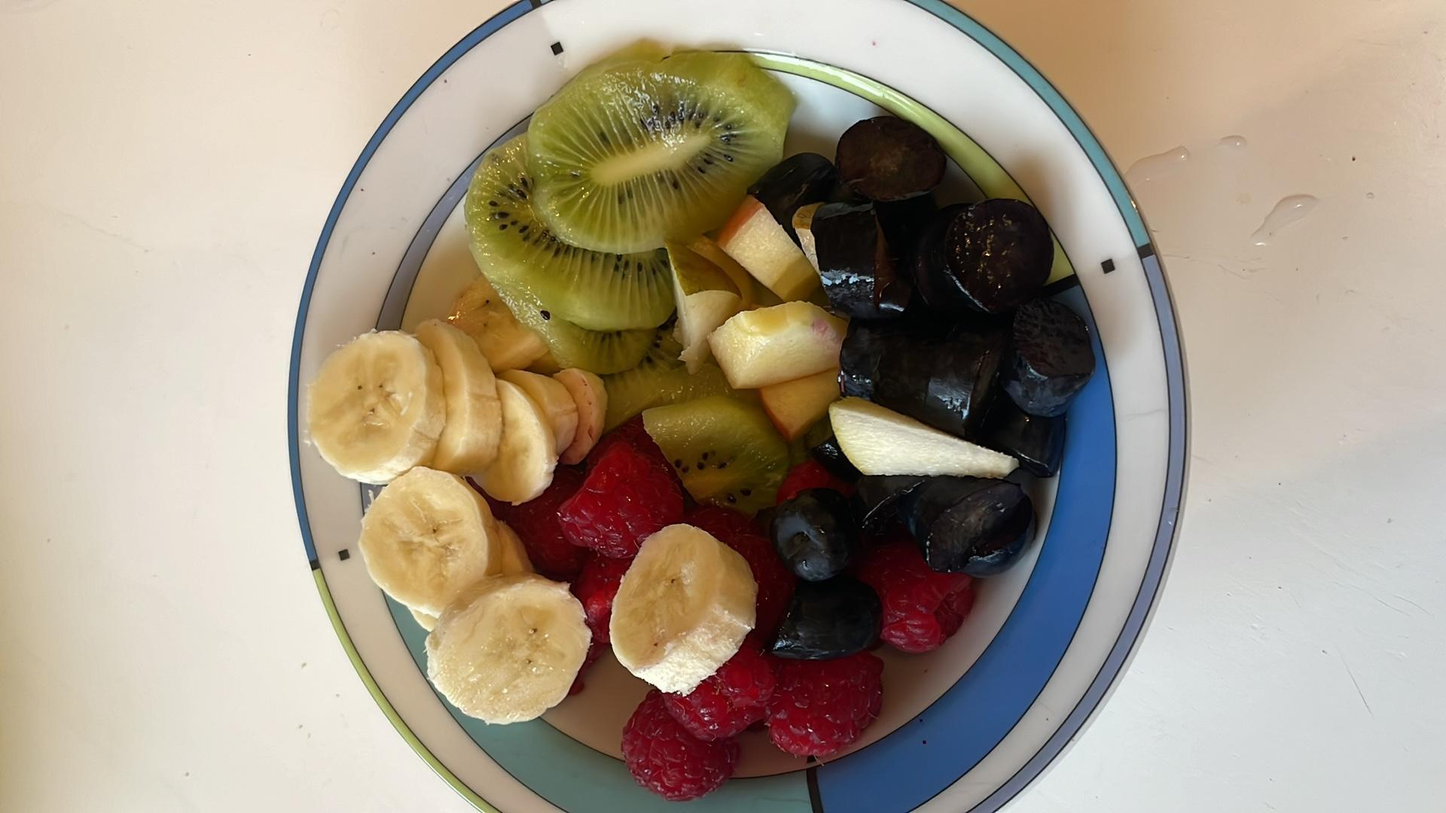apple: (831, 394, 1006, 479), (708, 303, 847, 387), (709, 190, 807, 296), (667, 240, 731, 384), (765, 370, 849, 423)
banana: (423, 576, 593, 726), (615, 528, 753, 691), (359, 470, 499, 616), (311, 333, 432, 475), (493, 373, 593, 492), (429, 326, 495, 471), (452, 270, 528, 361)
grape: (941, 197, 1047, 311), (832, 108, 945, 211), (934, 327, 1025, 438), (921, 484, 1033, 565), (1010, 298, 1074, 431), (818, 206, 888, 321), (782, 485, 854, 595)
kiwi: (533, 47, 777, 231), (461, 162, 681, 327), (636, 388, 778, 519)
raspberry: (611, 691, 740, 804), (760, 653, 887, 763), (566, 443, 679, 546), (871, 550, 962, 650), (666, 662, 772, 728)
